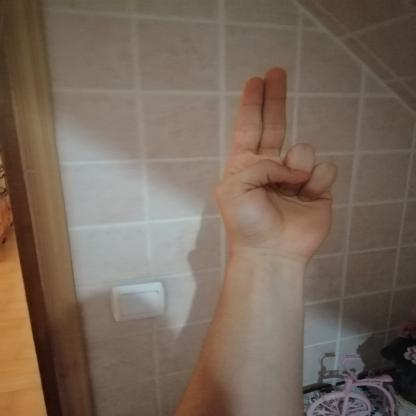TA: (198, 57, 364, 274)
